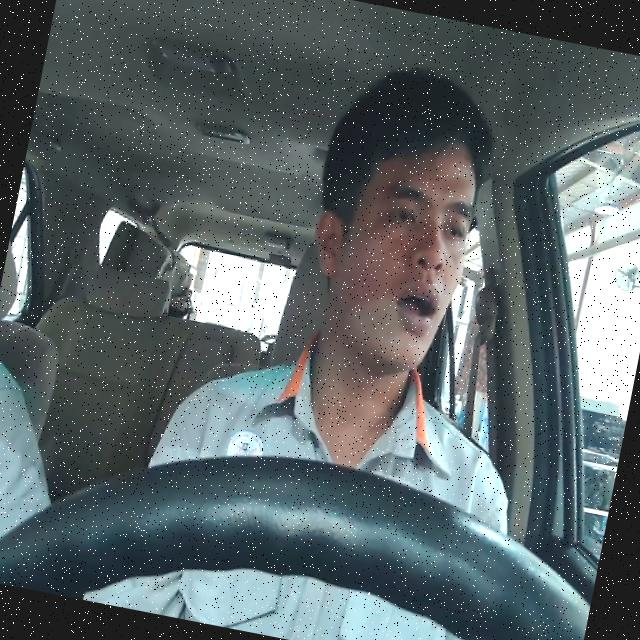yarning: (292, 120, 486, 381)
